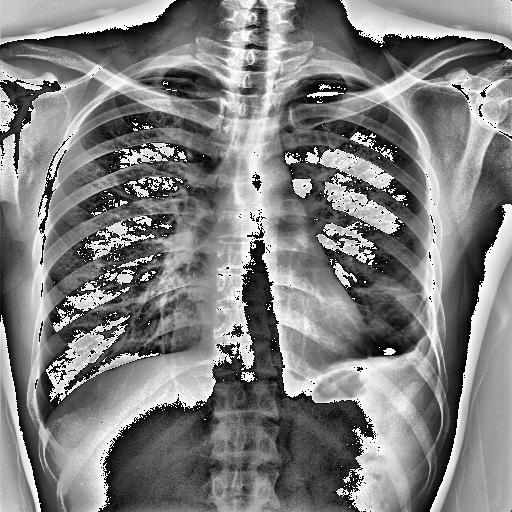10- Pleural effusion: (290, 328, 437, 381), (390, 328, 440, 400), (370, 334, 436, 372)
11- Pleural thickening: (390, 328, 440, 400), (110, 66, 194, 88), (280, 67, 352, 88)
13- Pulmonary fibrosis: (346, 230, 431, 346), (376, 285, 422, 301), (398, 288, 427, 300)
6- Infiltration: (346, 230, 431, 346)
7- Lung Opacity: (354, 272, 426, 351), (372, 278, 430, 338)
